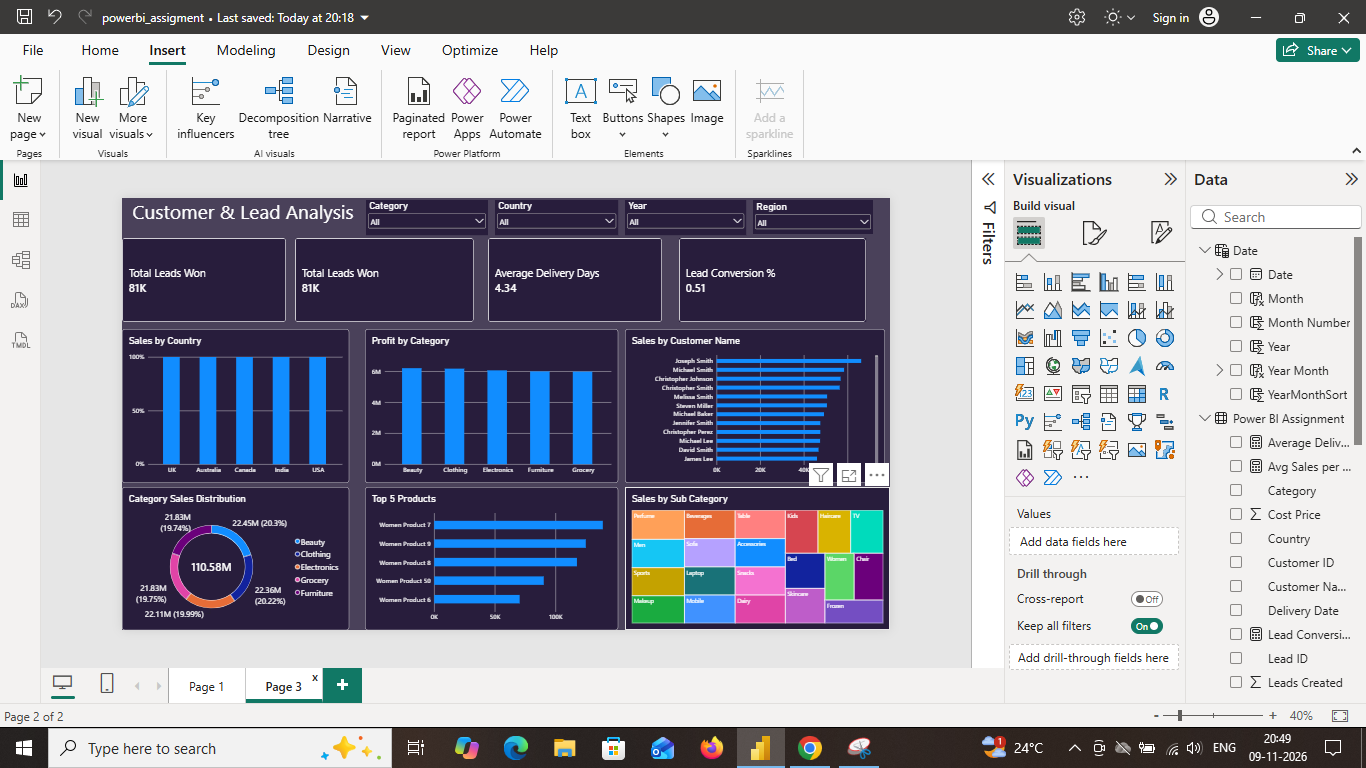

This screenshot's page, from the dashboard's own definition file:
{"tool":"powerbi","page":{"name":"Page 3","canvas":[1920,1080],"ordinal":1},"visuals":[{"type":"cardVisual","fields":{"Data":["Power BI Assignment.Total Leads Won"]},"box":[0,100,410,210],"z":1},{"type":"cardVisual","fields":{"Data":["Power BI Assignment.Total Leads Won"]},"box":[432.5,100,447.5,210],"z":2},{"type":"cardVisual","fields":{"Data":["Power BI Assignment.Average Delivery Days"]},"box":[915,100,435,210],"z":3},{"type":"cardVisual","fields":{"Data":["Power BI Assignment.Lead Conversion %"]},"box":[1392.5,100,467.5,210],"z":4},{"type":"textbox","box":[0,0,610,100],"z":5},{"type":"slicer","fields":{"Values":["Power BI Assignment.Category"]},"box":[610,5,305,87.5],"z":6},{"type":"slicer","fields":{"Values":["Power BI Assignment.Country"]},"box":[932.5,5,307.5,87.5],"z":7},{"type":"slicer","fields":{"Values":["Date.Year"]},"box":[1257.5,5,302.5,87.5],"z":8},{"type":"slicer","fields":{"Values":["Power BI Assignment.Region"]},"box":[1577.5,5,300,85],"z":9},{"type":"hundredPercentStackedColumnChart","title":"Sales by Country","fields":{"Category":["Power BI Assignment.Country"],"Y":["Power BI Assignment.Total Sales"]},"box":[0,327.5,567.5,385],"z":10},{"type":"donutChart","title":"Category Sales Distribution","fields":{"Category":["Power BI Assignment.Category"],"Y":["Power BI Assignment.Total Sales"]},"box":[0,722.5,567.5,357.5],"z":12},{"type":"clusteredBarChart","title":"Sales by Customer Name","fields":{"Category":["Power BI Assignment.Customer Name"],"Y":["Power BI Assignment.Total Sales"]},"box":[1257.5,327.5,650,385],"z":13},{"type":"barChart","title":"Top 5 Products","fields":{"Category":["Power BI Assignment.Product Name"],"Y":["Power BI Assignment.Total Sales"]},"box":[607.5,722.5,632.5,357.5],"z":14},{"type":"clusteredColumnChart","title":"Profit by Category","fields":{"Category":["Power BI Assignment.Category"],"Y":["Power BI Assignment.Total Profit"]},"box":[607.5,327.5,632.5,385],"z":15},{"type":"treemap","title":"Sales by  Sub Category","fields":{"Details":["Power BI Assignment.Sub Category"],"Values":["Power BI Assignment.Total Sales"]},"box":[1257.5,722.5,662.5,357.5],"z":16}]}

Visuals, with their boxes on the page's 1920x1080 design canvas (x1, y1, x2, y2). These are canvas units, not pixel positions in the 1366x768 screenshot, which may show the page scaled, cropped or inside an application window:
cardVisual - Power BI Assignment.Total Leads Won: BBox(0, 100, 410, 310)
cardVisual - Power BI Assignment.Total Leads Won: BBox(432, 100, 880, 310)
cardVisual - Power BI Assignment.Average Delivery Days: BBox(915, 100, 1350, 310)
cardVisual - Power BI Assignment.Lead Conversion %: BBox(1392, 100, 1860, 310)
textbox: BBox(0, 0, 610, 100)
slicer - Power BI Assignment.Category: BBox(610, 5, 915, 92)
slicer - Power BI Assignment.Country: BBox(932, 5, 1240, 92)
slicer - Date.Year: BBox(1258, 5, 1560, 92)
slicer - Power BI Assignment.Region: BBox(1578, 5, 1878, 90)
"Sales by Country" hundredPercentStackedColumnChart: BBox(0, 328, 568, 712)
"Category Sales Distribution" donutChart: BBox(0, 722, 568, 1080)
"Sales by Customer Name" clusteredBarChart: BBox(1258, 328, 1908, 712)
"Top 5 Products" barChart: BBox(608, 722, 1240, 1080)
"Profit by Category" clusteredColumnChart: BBox(608, 328, 1240, 712)
"Sales by  Sub Category" treemap: BBox(1258, 722, 1920, 1080)
